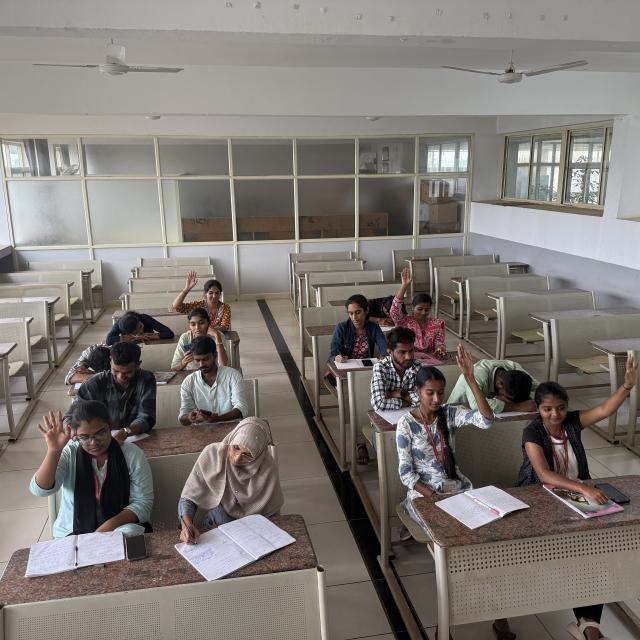Hand Rising: (29, 395, 146, 529), (527, 351, 640, 479), (400, 340, 490, 472), (390, 267, 445, 347), (173, 269, 232, 324)
Reading: (68, 342, 153, 446)
Sleeping: (472, 356, 541, 415), (60, 340, 127, 386), (104, 308, 174, 348), (359, 287, 408, 325)
Using Phone: (180, 336, 247, 424), (171, 307, 226, 370)
Writing: (173, 421, 284, 551), (328, 294, 365, 370)
